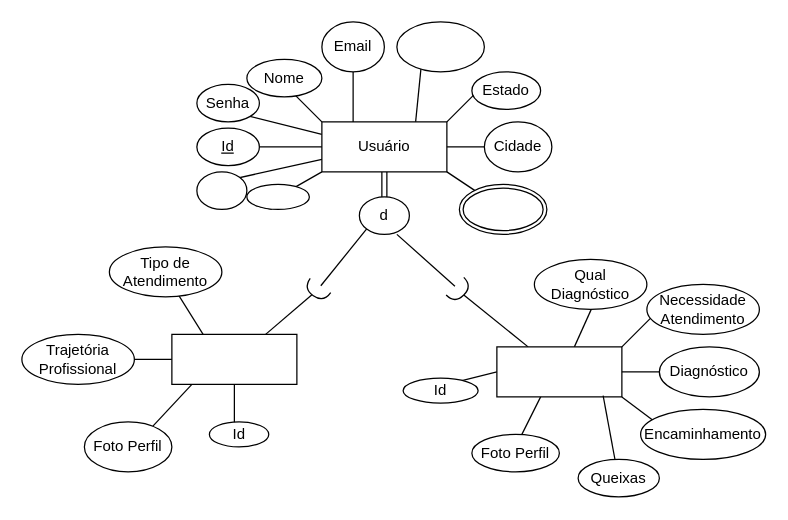
Some shapes in this 788 by 520 pixel diagram are drawn without their labels. The shapes that lost their labels are listed below. From the top down, each one's centre as x and y in pixels, then its label:
At [440,46]: "Data de Nascimento".
At [221,190]: "CPF".
At [277,196]: "Tipo".
At [502,208]: "Telefone".
At [234,358]: "Profissional".
At [559,371]: "Paciente".
